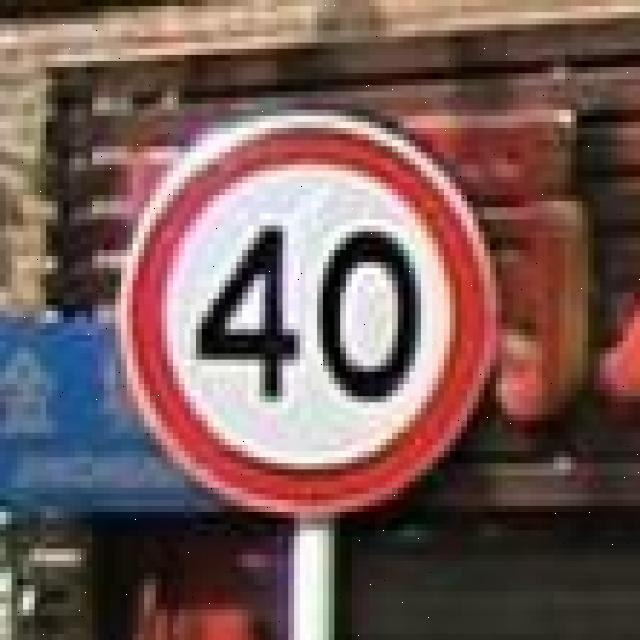speed limit 40: (116, 113, 497, 516)
